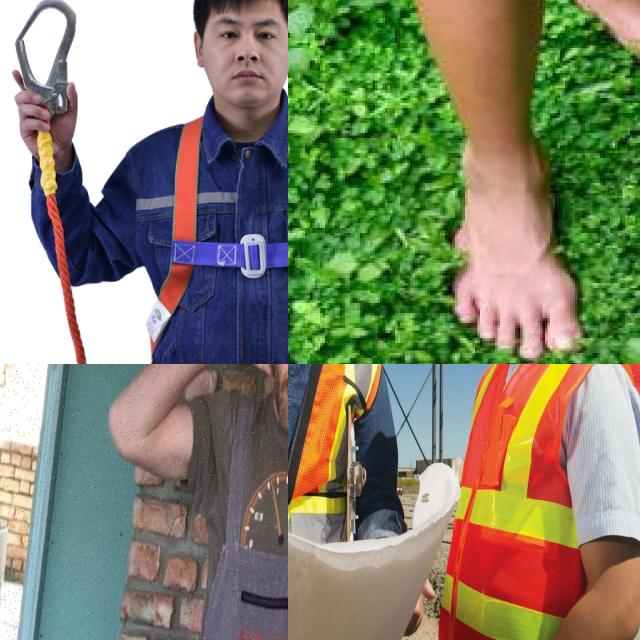Barefoots: (427, 114, 586, 364)
Harness: (138, 114, 288, 364), (13, 0, 80, 134)
No_Glasses: (214, 14, 287, 47)
person: (442, 364, 640, 640), (288, 364, 409, 540)
vest: (441, 364, 640, 640), (288, 364, 372, 544)
